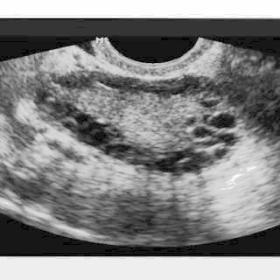PCOS: (59, 74, 96, 90), (153, 160, 192, 174), (77, 117, 96, 138), (207, 112, 237, 125), (197, 98, 224, 107), (66, 99, 80, 116), (119, 141, 136, 155), (102, 137, 116, 151), (192, 152, 206, 164), (212, 150, 230, 158), (224, 134, 239, 143), (37, 92, 51, 98), (197, 127, 210, 133)
